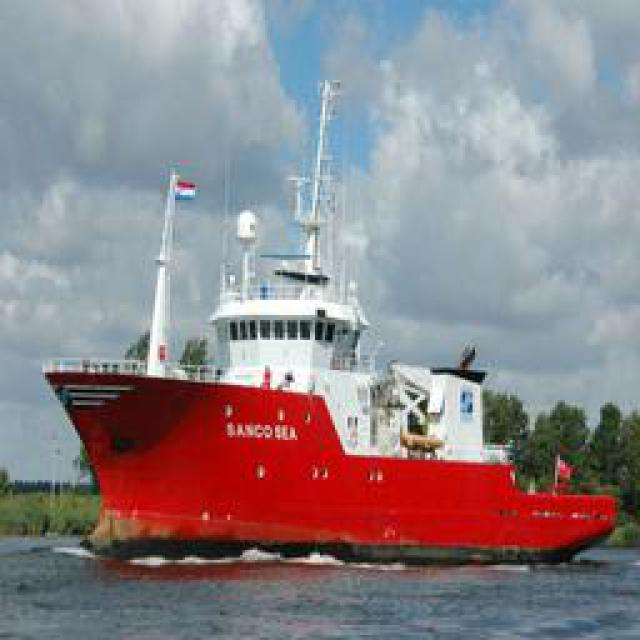Ship: (39, 92, 614, 560)
